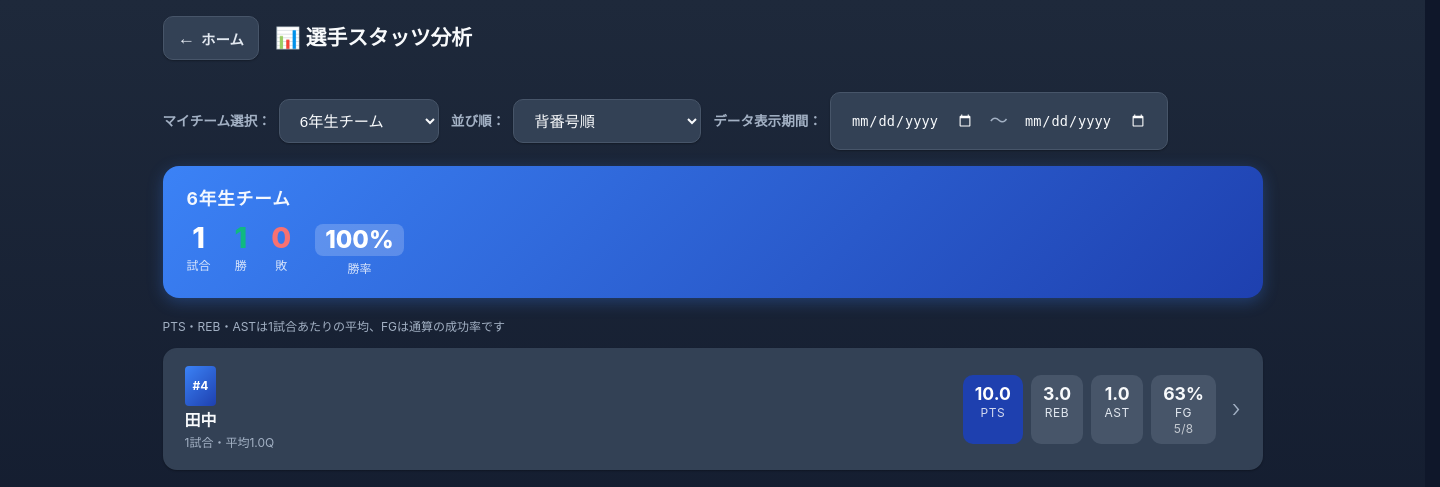
Test: データ表示期間の開始と終了 › 正しい向きに直すと一覧が戻る
Type "2026-05-01" into the date field named "データ表示期間の開始日" at [912, 121], box x1=843 y1=99 x2=982 y2=143
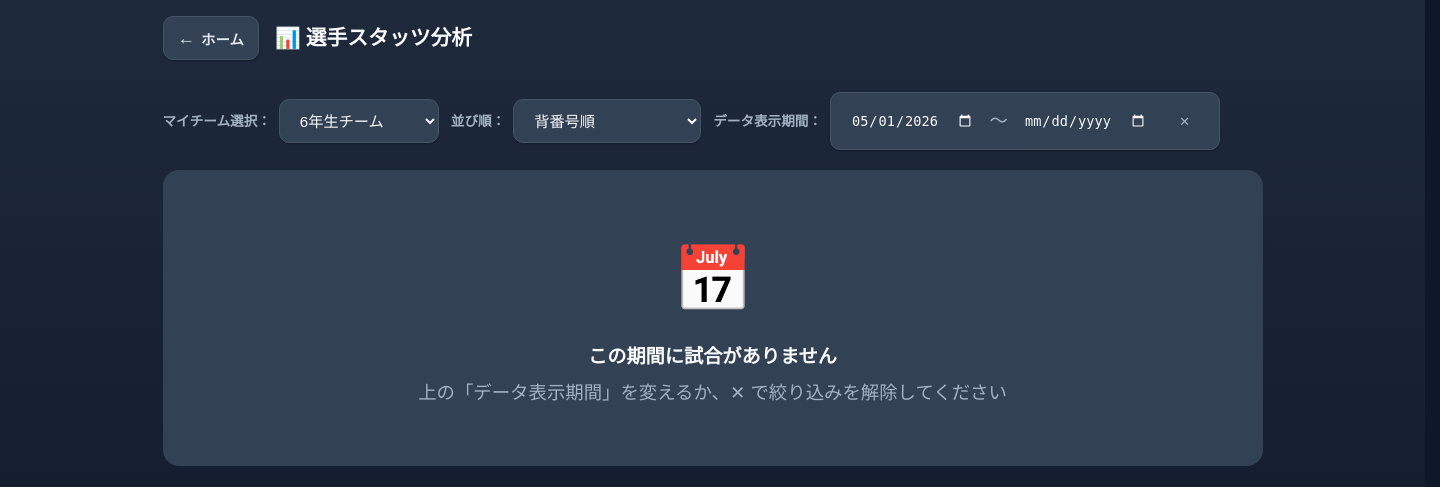
Type "2026-03-01" into the date field named "データ表示期間の終了日" at [1085, 121], box x1=1016 y1=99 x2=1155 y2=143
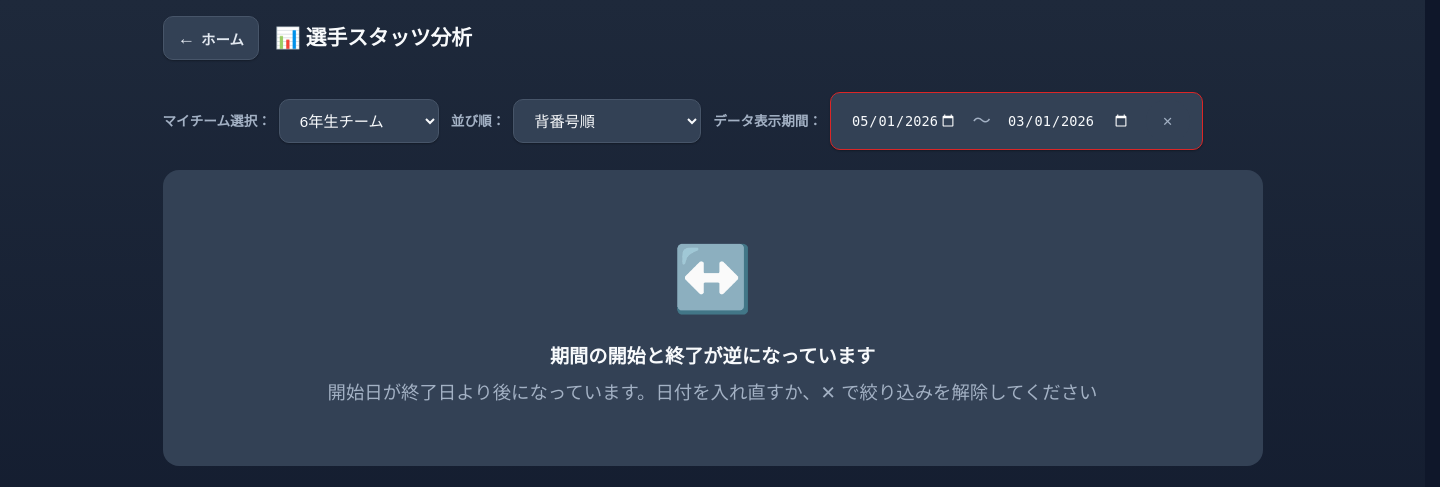
Type "2026-03-01" into the date field named "データ表示期間の開始日" at [904, 121], box x1=843 y1=99 x2=965 y2=143
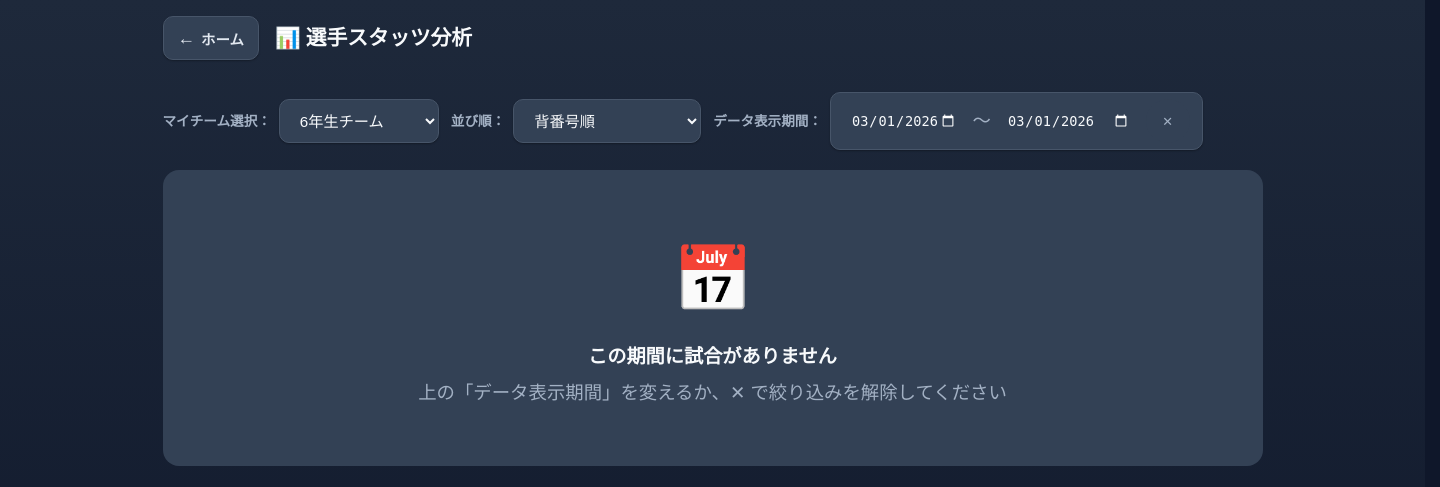
Type "2026-05-01" into the date field named "データ表示期間の終了日" at [1068, 121], box x1=999 y1=99 x2=1138 y2=143
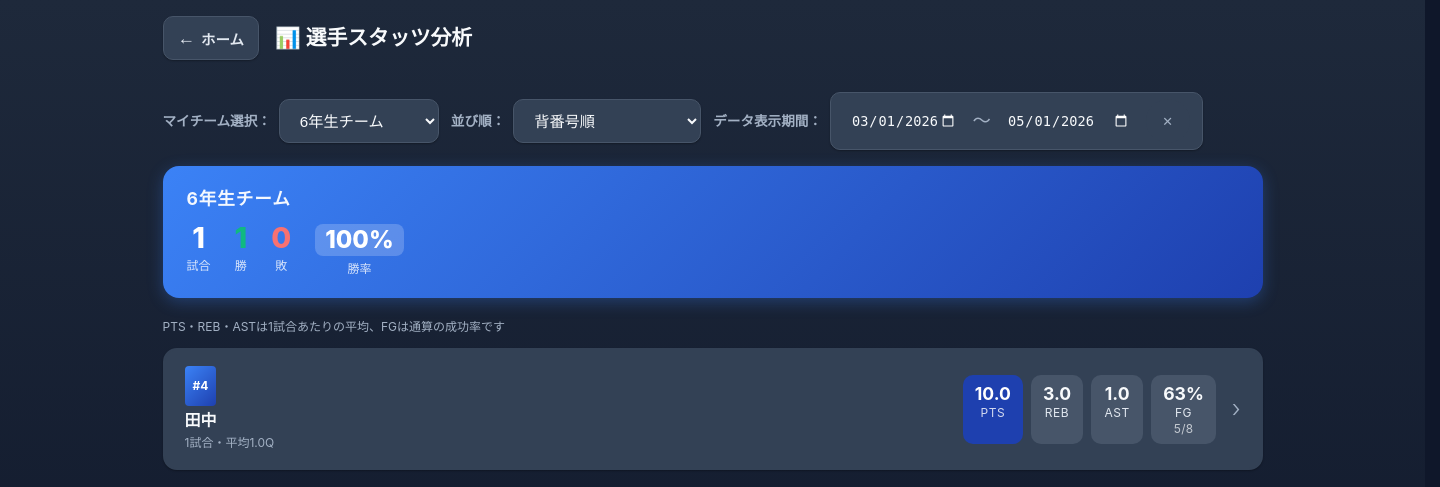
Expected: the heading "期間の開始と終了が逆になっています" is not shown
Result: the text "田中" is shown at x1=184 y1=410 x2=216 y2=430
